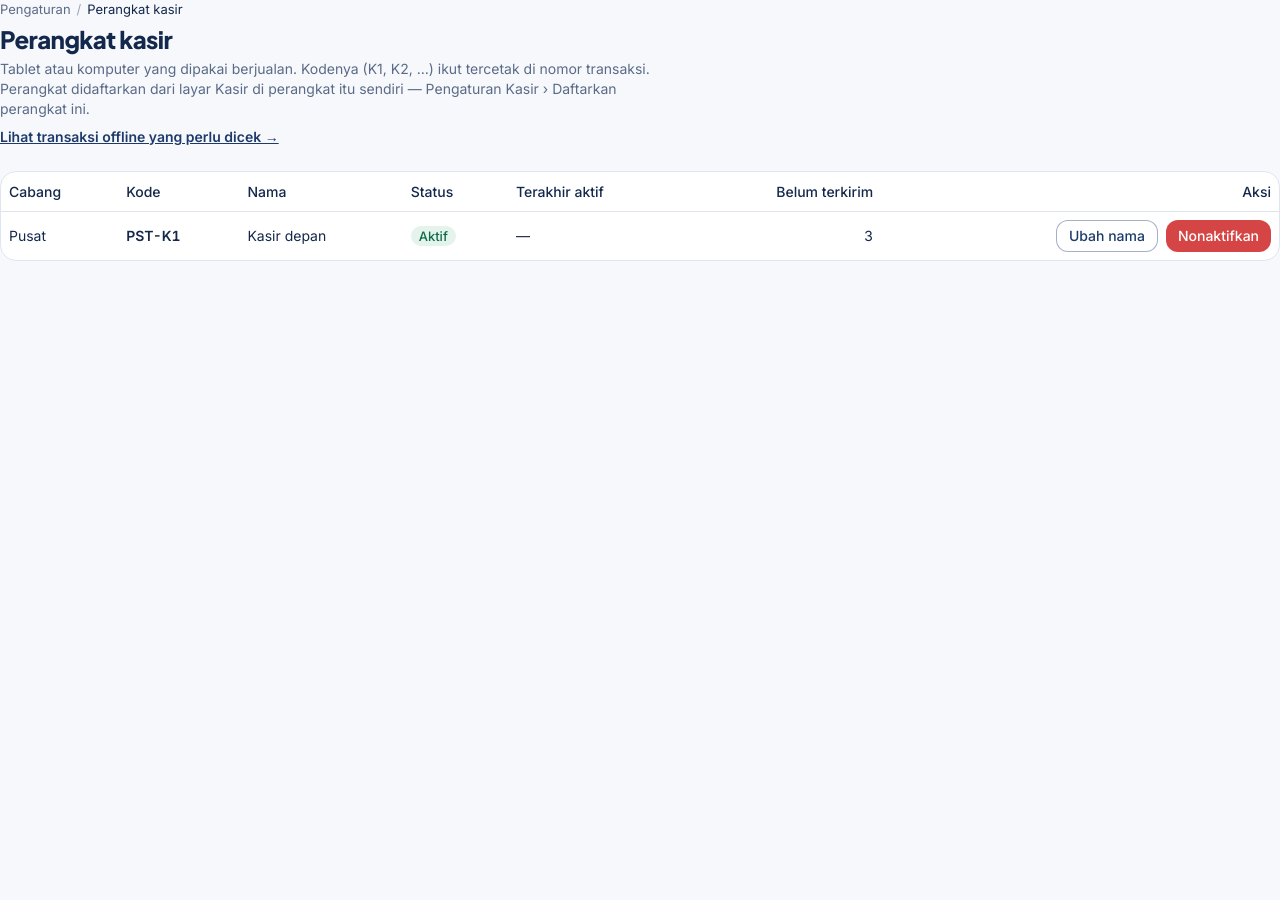
Scenario: PosDevicesScreen — Nonaktifkan perangkat › warns when the device still holds unsent sales
Click the button "Nonaktifkan" at (1218, 236), box [1166, 220, 1271, 252]
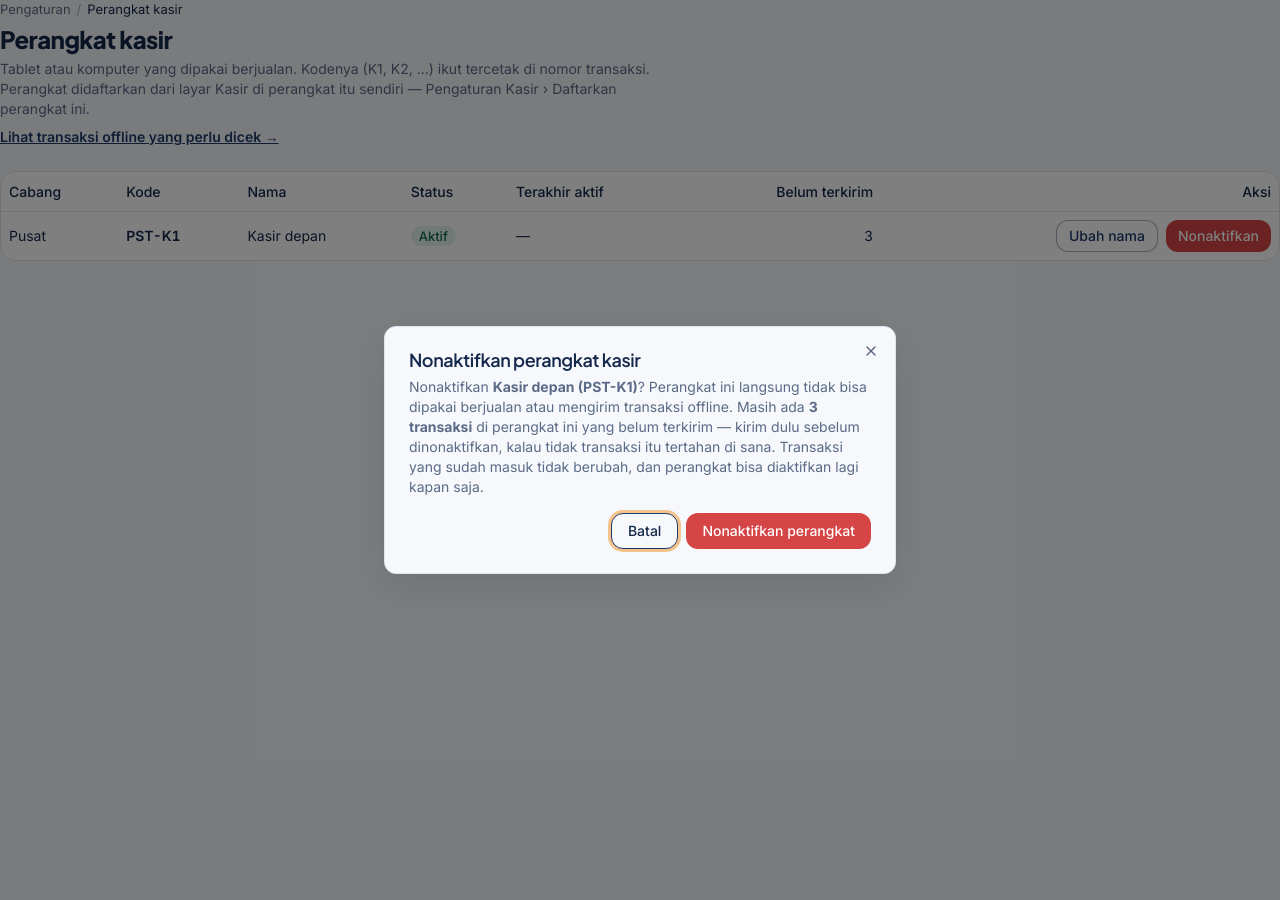
Expected: the dialog shows "3 transaksi", [384, 326, 896, 574]
